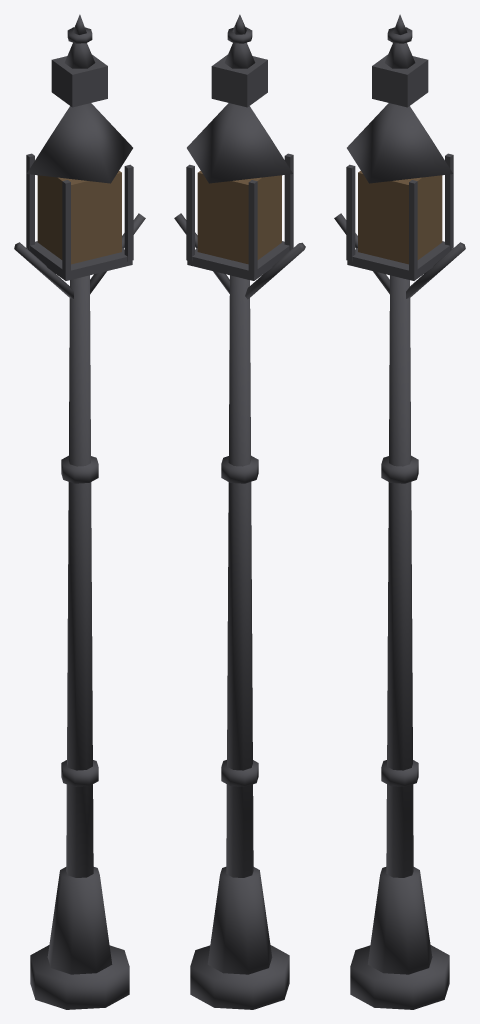
Rendered from gothic_lantern.glb.
3 renders of one model, left to right at view 1: azimuth 30°, elevation 25°; view 2: azimuth 150°, elevation 25°; view 3: azimuth 330°, elevation 25°, orthographic.
Visible parts, largest first — view 1: gothic_lantern; view 2: gothic_lantern; view 3: gothic_lantern.
Part boxes in pixels (left/top/right/bottom): gothic_lantern: left=14, top=14, right=145, bottom=1009; gothic_lantern: left=174, top=14, right=305, bottom=1009; gothic_lantern: left=334, top=14, right=465, bottom=1009.
Size of the model in its own units: 0.585 by 4.18 by 0.48.
